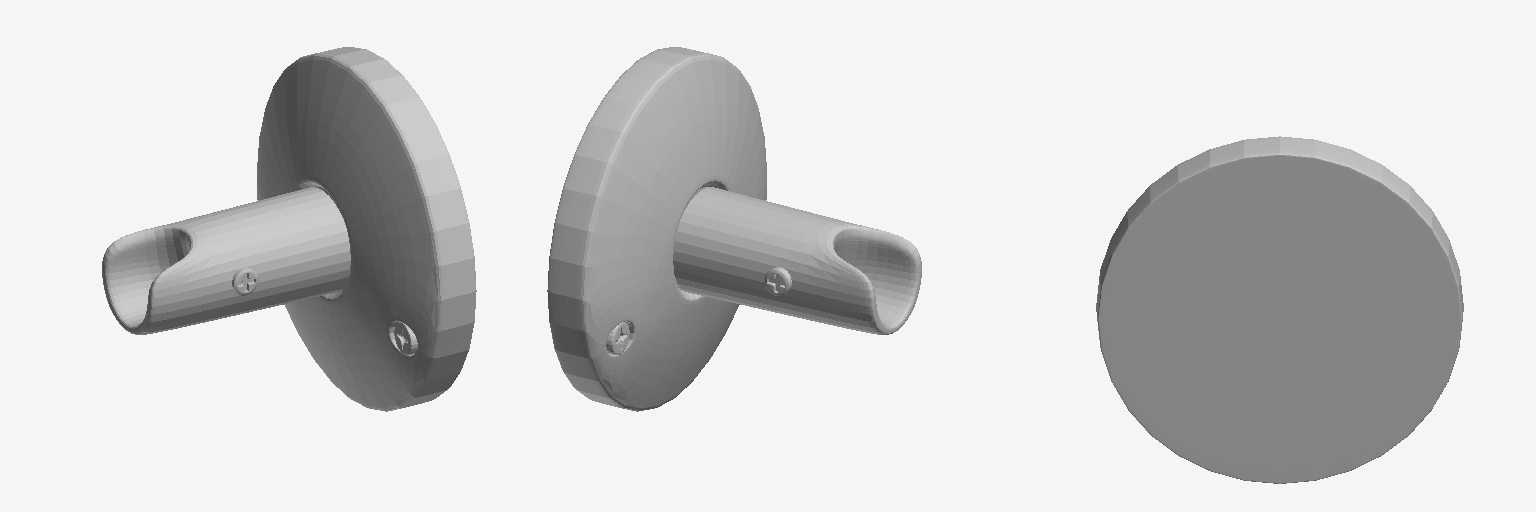
File: camara.obj
The picture shows the model from 3 angles: view 1: azimuth 30°, elevation 25°; view 2: azimuth 150°, elevation 25°; view 3: azimuth 270°, elevation 25°; orthographic projection.
Visible parts, largest first — view 1: Camera_altcam_DCF51IR_OBJ:Camera_mount1 group252 group250 group2; view 2: Camera_altcam_DCF51IR_OBJ:Camera_mount1 group252 group250 group2; view 3: Camera_altcam_DCF51IR_OBJ:Camera_mount1 group252 group250 group2.
Part boxes in pixels (left/top/right/bottom): Camera_altcam_DCF51IR_OBJ:Camera_mount1 group252 group250 group2: left=102, top=47, right=476, bottom=411; Camera_altcam_DCF51IR_OBJ:Camera_mount1 group252 group250 group2: left=547, top=47, right=921, bottom=411; Camera_altcam_DCF51IR_OBJ:Camera_mount1 group252 group250 group2: left=1096, top=136, right=1463, bottom=483.
Size of the model in its own units: 0.4317 by 0.5282 by 0.5282.